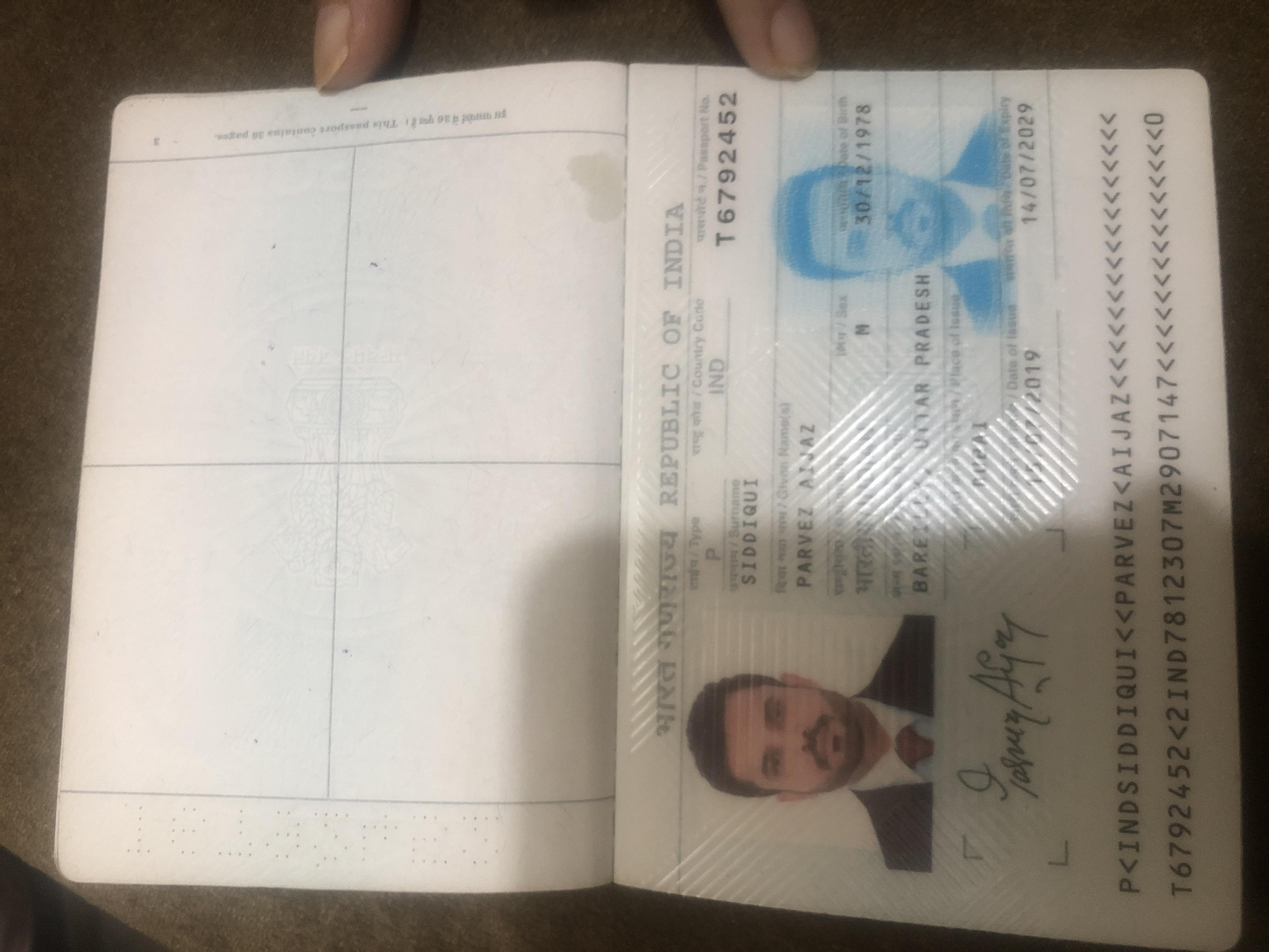DOB: (955, 638, 1141, 663)
Surname: (484, 553, 640, 574)
country_code: (732, 528, 802, 555)
date_of_expiry: (961, 762, 1141, 781)
date_of_issue: (603, 766, 821, 789)
details: (52, 823, 1137, 899)
name: (479, 592, 717, 618)
nationality: (471, 635, 726, 667)
passport_no: (934, 532, 1163, 558)
photo: (137, 514, 434, 697)
place_of_birth: (472, 682, 909, 707)
place_of_issue: (610, 724, 718, 749)
sex: (809, 637, 850, 658)
sign: (172, 724, 467, 789)
type: (505, 523, 556, 543)
